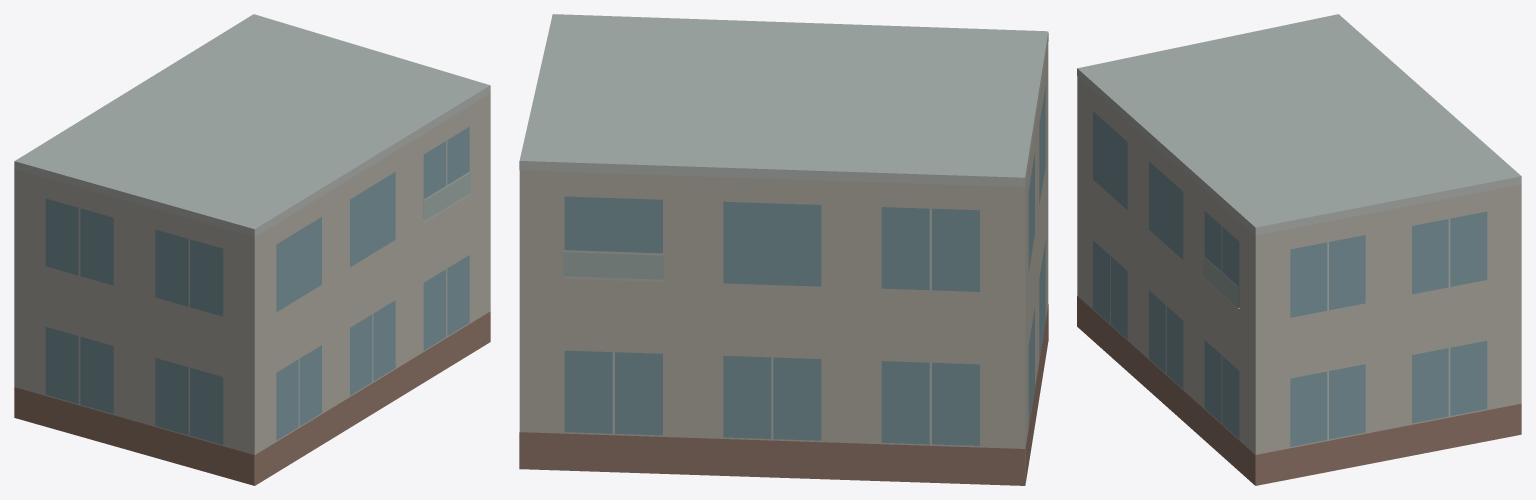
The model's file is survey-upis-33000554.glb.
3 views of the same model, side by side, from view 1: azimuth 30°, elevation 25°; view 2: azimuth 150°, elevation 25°; view 3: azimuth 270°, elevation 25° (orthographic). The views are drawn at different scales.
Visible parts, largest first — view 1: survey-upis-33000554.tmp; view 2: survey-upis-33000554.tmp; view 3: survey-upis-33000554.tmp.
Boxes of the visible parts, x1=… form: survey-upis-33000554.tmp: x1=14, y1=14, x2=490, y2=485; survey-upis-33000554.tmp: x1=519, y1=14, x2=1048, y2=485; survey-upis-33000554.tmp: x1=1077, y1=14, x2=1521, y2=485.
Bounding box in the file's own units: 14.02 × 7.9 × 12.33.
